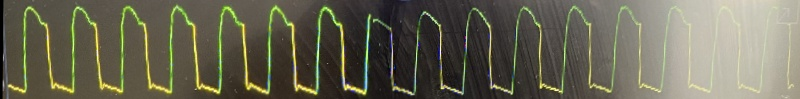normal_pressure: (0, 0, 785, 99)
